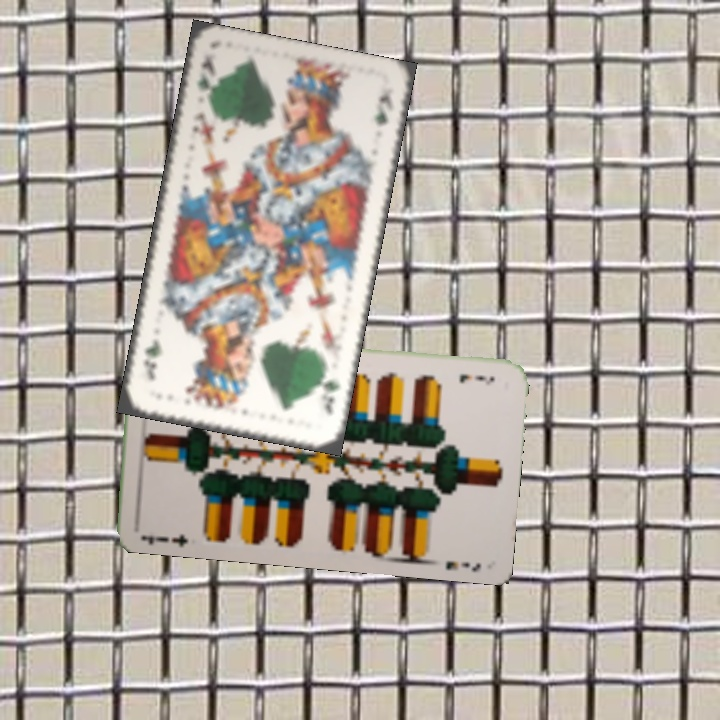E7: (138, 530, 190, 548), (455, 370, 497, 387)
GK: (317, 366, 344, 419), (192, 53, 218, 108)
